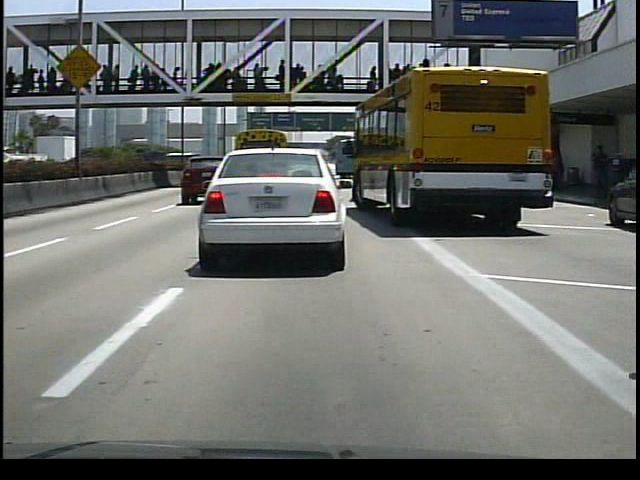person: (589, 143, 614, 206)
